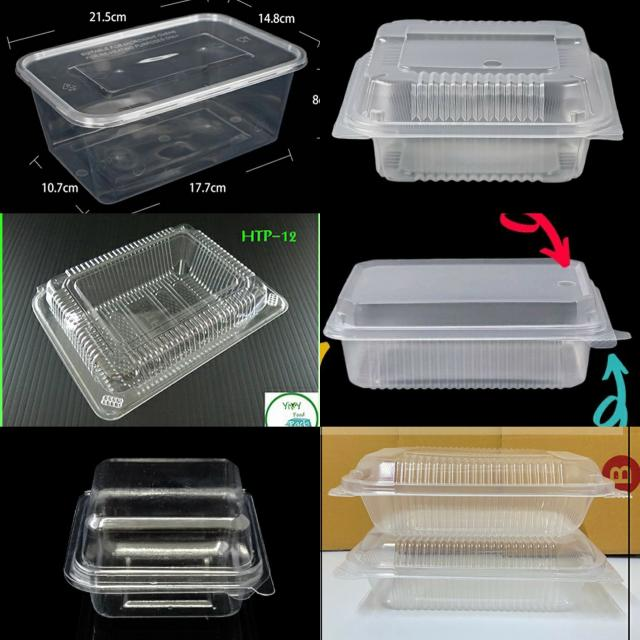Single-Use-Plastic: (16, 14, 306, 204), (33, 224, 289, 419), (333, 20, 622, 181), (324, 259, 630, 388), (65, 459, 274, 618), (329, 448, 627, 536), (334, 526, 622, 611)
